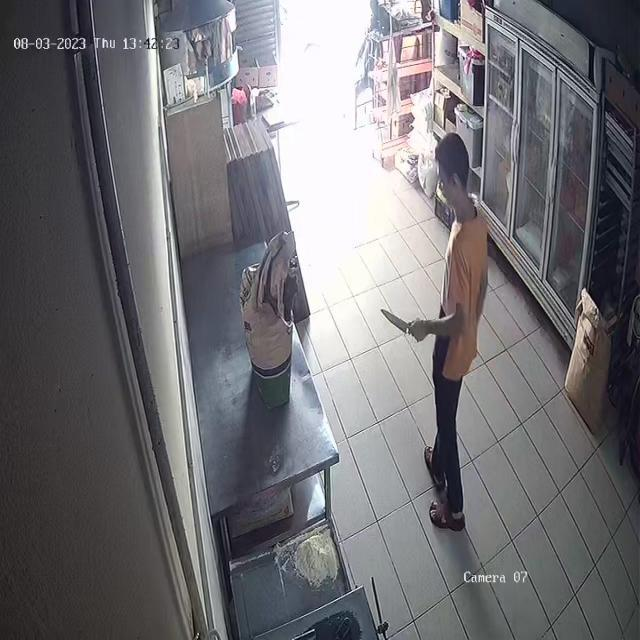Knife: (369, 298, 427, 348)
